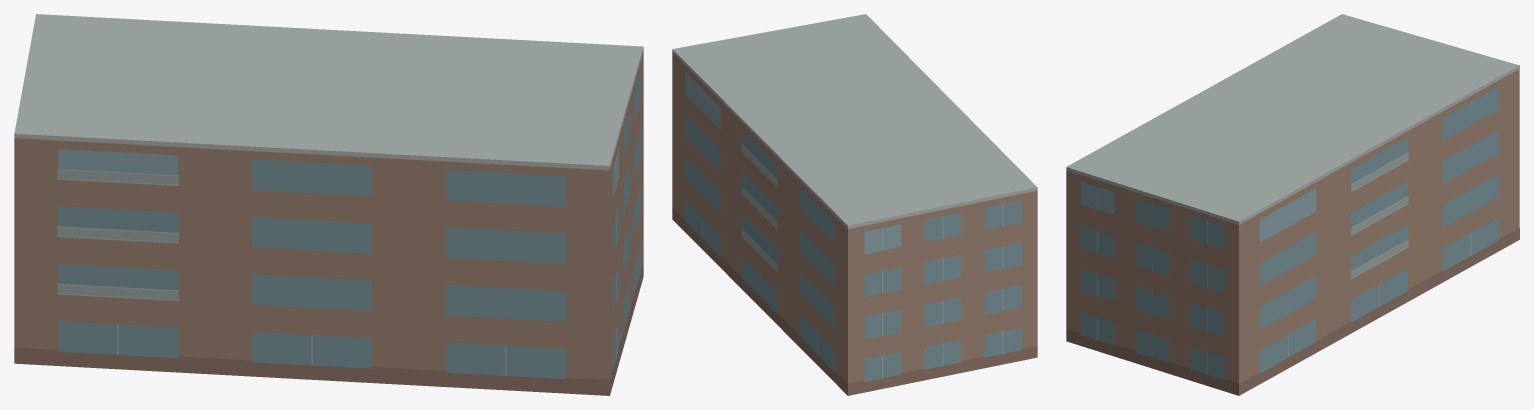
Rendered from survey-upis-32629176.glb.
3 views of the same model, side by side, from view 1: azimuth 30°, elevation 25°; view 2: azimuth 150°, elevation 25°; view 3: azimuth 270°, elevation 25° (orthographic). The views are drawn at different scales.
Visible parts, largest first — view 1: survey-upis-32629176.tmp; view 2: survey-upis-32629176.tmp; view 3: survey-upis-32629176.tmp.
Boxes of the visible parts, x1,y1,x2,y2 form: survey-upis-32629176.tmp: (14, 14, 643, 395); survey-upis-32629176.tmp: (672, 14, 1037, 395); survey-upis-32629176.tmp: (1066, 14, 1519, 395).
Size of the model in its own units: 32.2 by 12.6 by 29.72.
